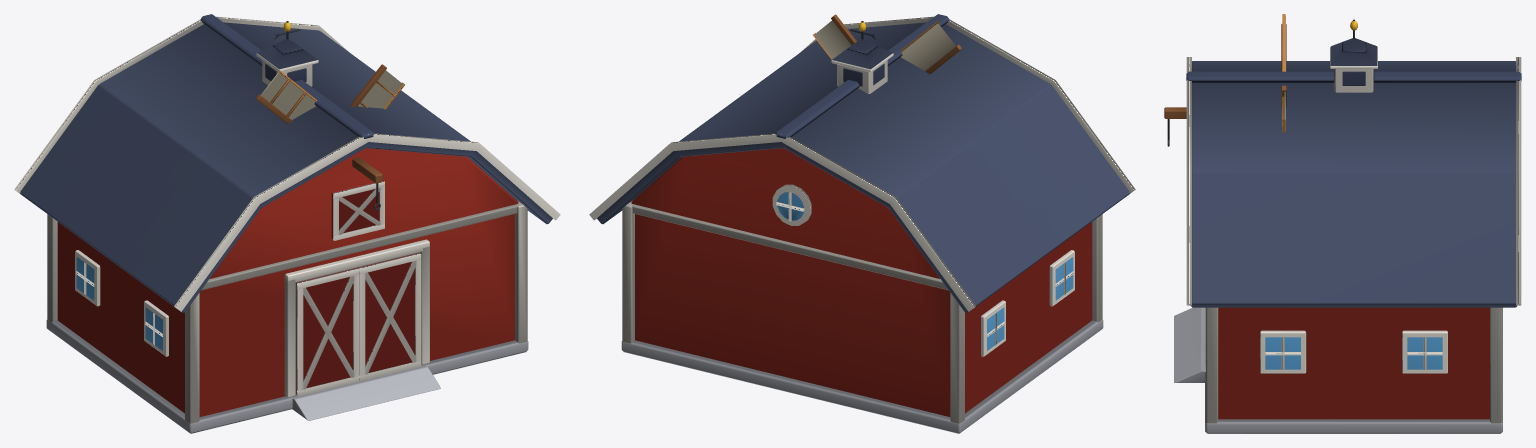
File: props_base.glb
3 renders of one model, left to right at view 1: azimuth 30°, elevation 25°; view 2: azimuth 150°, elevation 25°; view 3: azimuth 270°, elevation 25°, orthographic. The views are drawn at different scales.
Visible parts, largest first — view 1: P_barn, Blades; view 2: P_barn, Blades; view 3: P_barn, Blades.
Part boxes in pixels (<box>): P_barn: <box>14,14,560,433</box>; Blades: <box>256,64,404,123</box>; P_barn: <box>589,14,1135,433</box>; Blades: <box>813,14,961,74</box>; P_barn: <box>1164,19,1521,433</box>; Blades: <box>1281,14,1286,132</box>.
Size of the model in its own units: 25.79 by 22.1 by 20.15.
